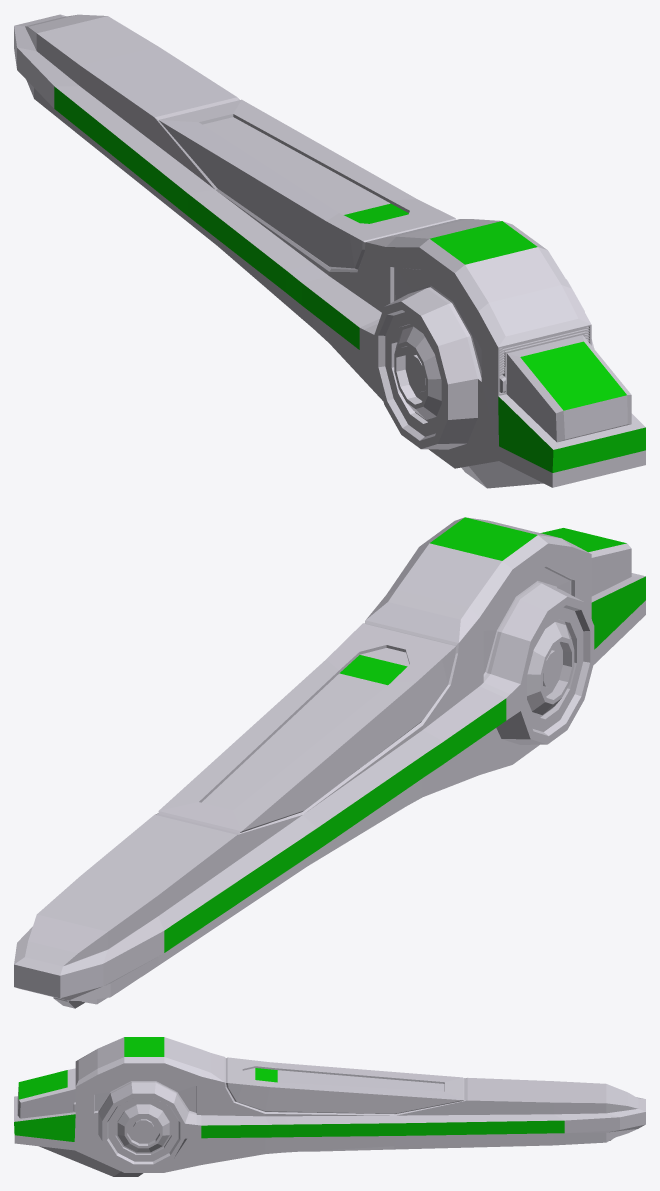
Rendered from hull.duckHead.fbx.
3 renders of one model, top to bottom at view 1: azimuth 30°, elevation 25°; view 2: azimuth 150°, elevation 25°; view 3: azimuth 270°, elevation 25°, orthographic. The views are drawn at different scales.
Visible parts, largest first — view 1: hull.duckHead; view 2: hull.duckHead; view 3: hull.duckHead.
Boxes of the visible parts, x1,y1,x2,y2 form: hull.duckHead: (14, 14, 645, 488); hull.duckHead: (14, 517, 645, 1008); hull.duckHead: (14, 1037, 645, 1176).
Bounding box in the file's own units: 3.51 × 5.03 × 23.34.
